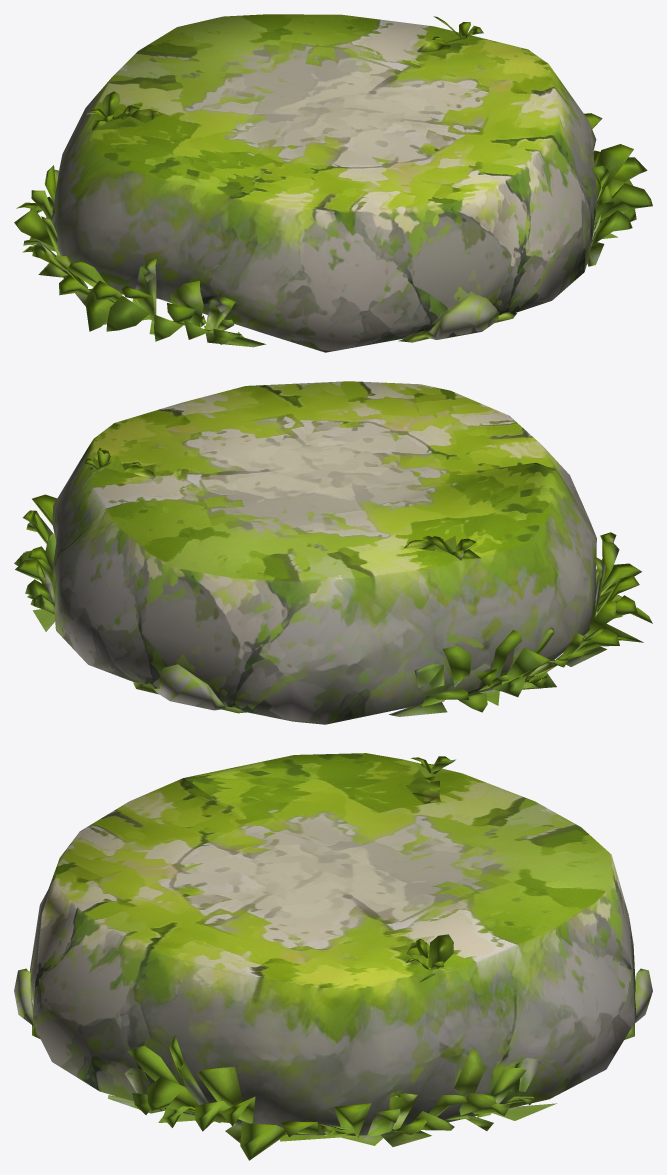
Rendered from SteppingStone.fbx.
The picture shows the model from 3 angles, top to bottom: view 1: azimuth 30°, elevation 25°; view 2: azimuth 150°, elevation 25°; view 3: azimuth 270°, elevation 25°; orthographic projection. The views are drawn at different scales.
Visible parts, largest first — view 1: SteppingStone; view 2: SteppingStone; view 3: SteppingStone.
Part boxes in pixels (box(x1,y1,x2,y2)): SteppingStone: box(14, 14, 652, 352); SteppingStone: box(14, 381, 652, 724); SteppingStone: box(14, 753, 652, 1160).
Size of the model in its own units: 1.2 by 0.2934 by 1.05.
1 material, 1 textured.
